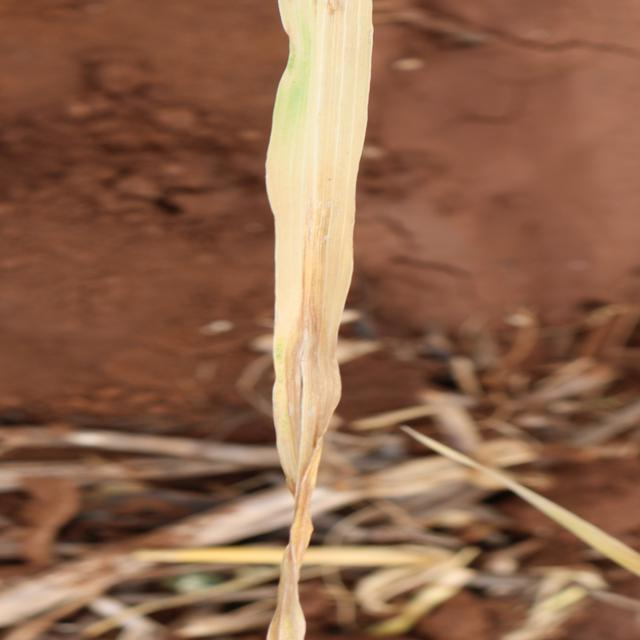Septoria: (262, 1, 374, 638)
